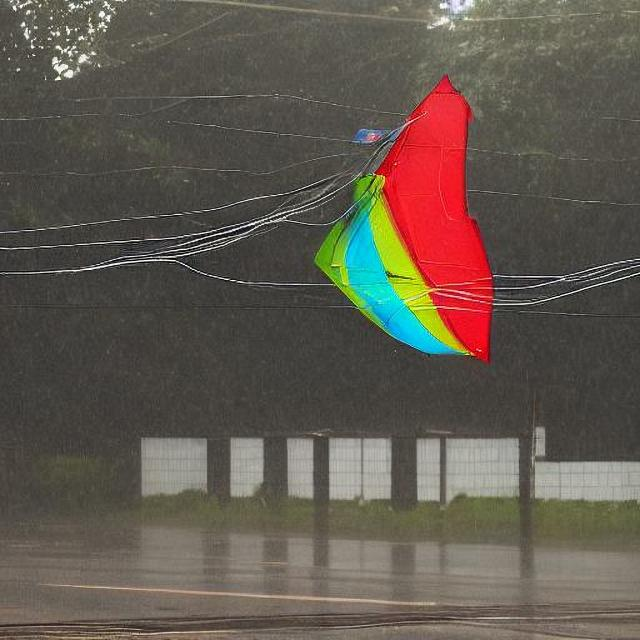floating object: (318, 76, 497, 356)
